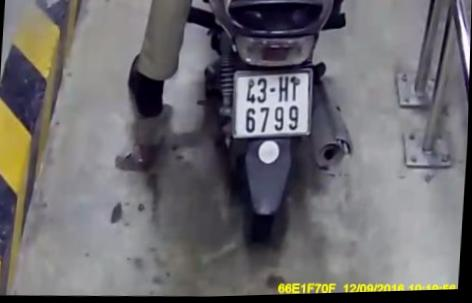LP: (231, 67, 317, 144)
